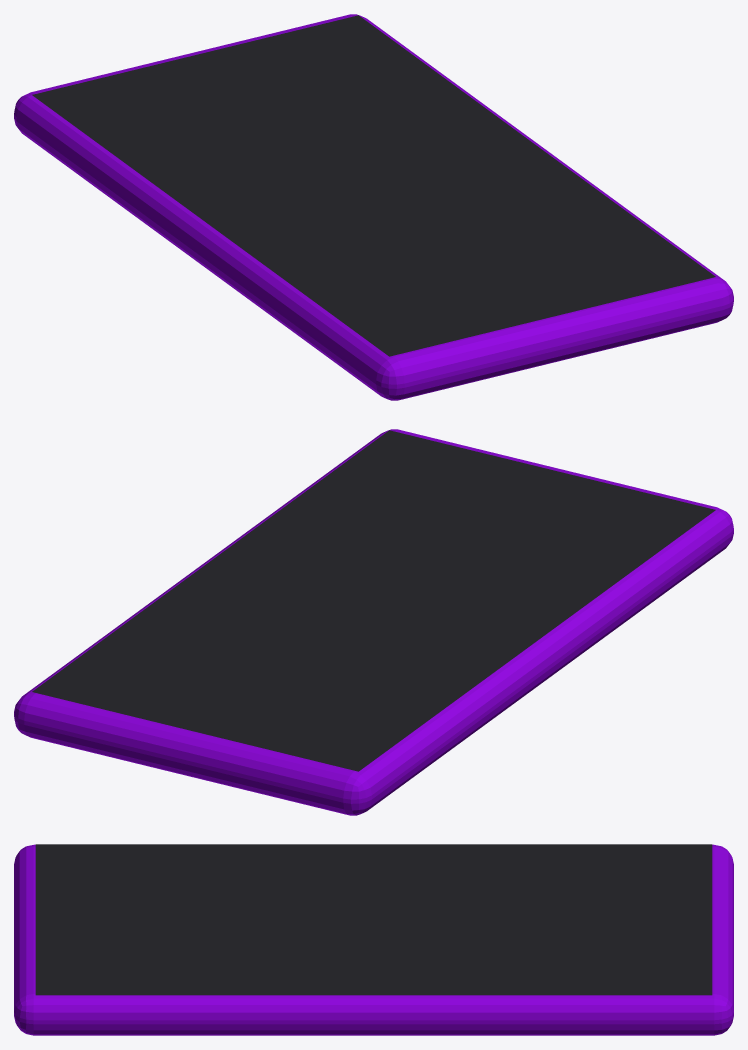
The model's file is Phone_966.glb.
3 renders of one model, top to bottom at view 1: azimuth 30°, elevation 25°; view 2: azimuth 150°, elevation 25°; view 3: azimuth 270°, elevation 25°, orthographic. The views are drawn at different scales.
Parts seen in each view (by area): view 1: Phone_Screen, Phone_Body; view 2: Phone_Screen, Phone_Body; view 3: Phone_Screen, Phone_Body.
Boxes of the visible parts, box(x1,y1,x2,y2) form: Phone_Screen: box(32, 15, 715, 356); Phone_Body: box(14, 14, 733, 400); Phone_Screen: box(32, 430, 715, 771); Phone_Body: box(14, 429, 733, 815); Phone_Screen: box(35, 844, 712, 995); Phone_Body: box(14, 844, 733, 1035).
Size of the model in its own units: 0.0777 by 0.0089 by 0.1441.
